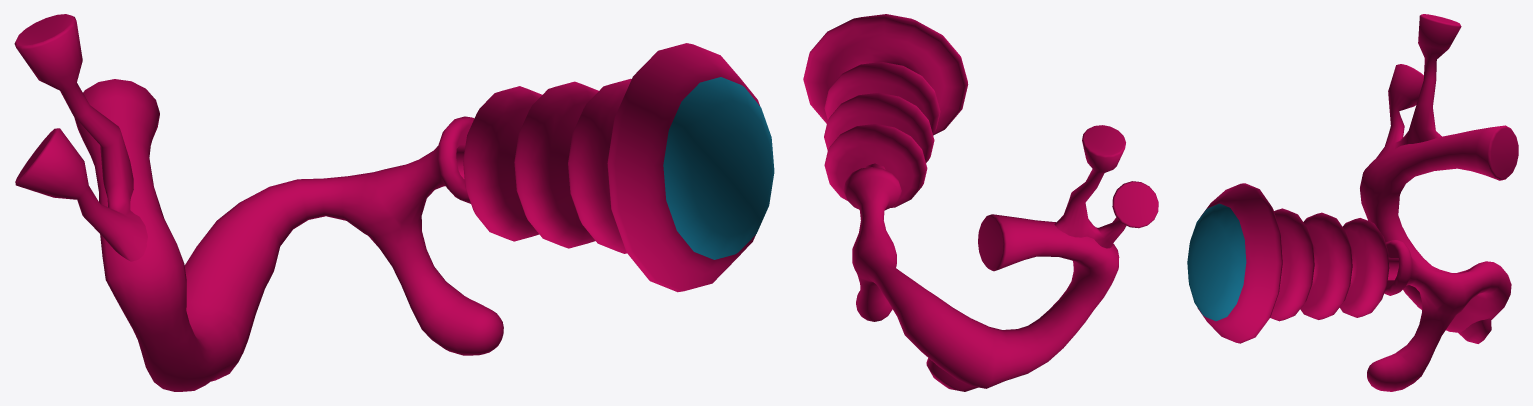
File: zooka.glb
The picture shows the model from 3 angles, left to right: view 1: azimuth 30°, elevation 25°; view 2: azimuth 150°, elevation 25°; view 3: azimuth 270°, elevation 25°; orthographic projection. The views are drawn at different scales.
Visible parts, largest first — view 1: levelGadget_rocket_launcher_body, levelGadget_rocket_launcher_head; view 2: levelGadget_rocket_launcher_body, levelGadget_rocket_launcher_head; view 3: levelGadget_rocket_launcher_body, levelGadget_rocket_launcher_head.
Part boxes in pixels (box(x1,y1,x2,y2)): levelGadget_rocket_launcher_body: box(14, 14, 503, 391); levelGadget_rocket_launcher_head: box(456, 43, 774, 292); levelGadget_rocket_launcher_body: box(843, 125, 1158, 391); levelGadget_rocket_launcher_head: box(803, 14, 968, 207); levelGadget_rocket_launcher_body: box(1360, 14, 1518, 391); levelGadget_rocket_launcher_head: box(1187, 183, 1398, 343).
Bounding box in the file's own units: 1.91 × 1.21 × 1.34.
